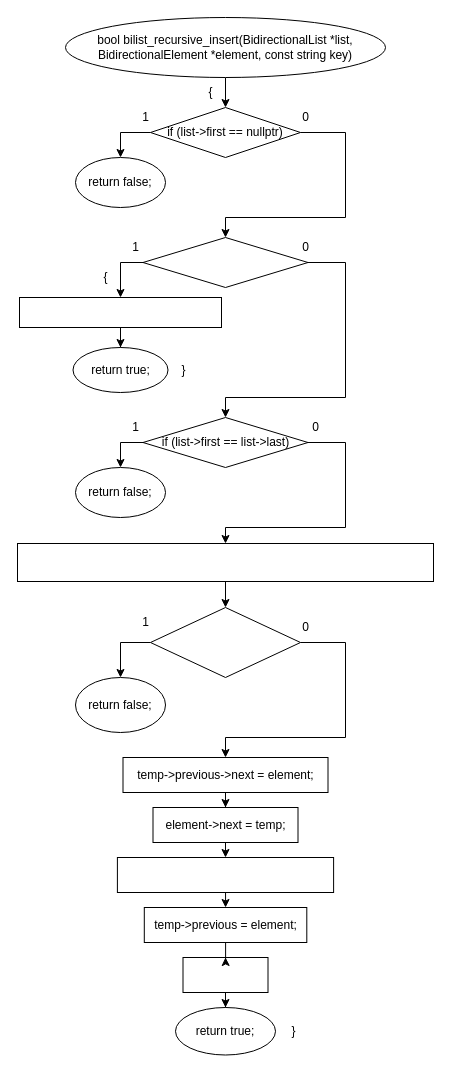
Image size: 451x1073. Some labels were removed from this diagram. Here are the shapes that lost their labels. From the top down, the box of each, then its label:
(142, 236, 308, 288): if (list->first->key == key)
(18, 296, 222, 328): bilist_add_before(list, element);
(16, 542, 434, 582): BidirectionalElement *temp = _bilist_recursive_search(list->first, key);
(150, 606, 300, 678): if (temp == nullptr)
(116, 856, 334, 892): element->previous = temp->previous;
(182, 956, 268, 992): list->size++;
